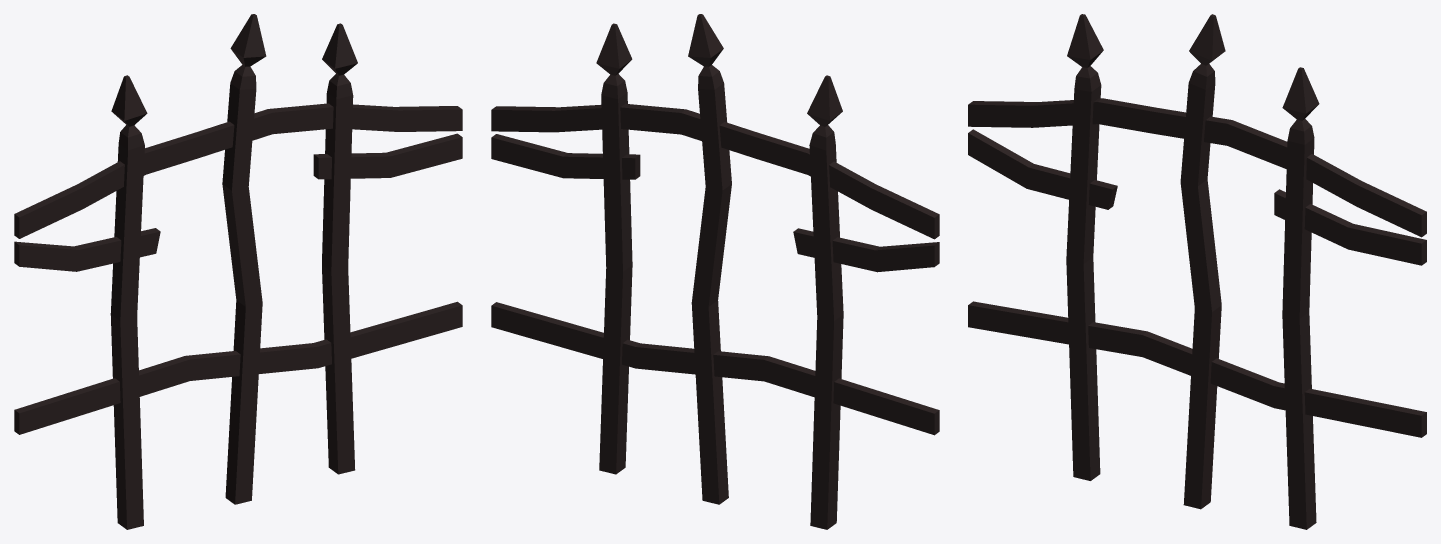
Rendered from fenceBSection3.glb.
3 renders of one model, left to right at view 1: azimuth 30°, elevation 25°; view 2: azimuth 150°, elevation 25°; view 3: azimuth 330°, elevation 25°, orthographic. The views are drawn at different scales.
Parts seen in each view (by area): view 1: fenceBSection3; view 2: fenceBSection3; view 3: fenceBSection3.
Boxes of the visible parts, box(x1,y1,x2,y2) form: fenceBSection3: box(14, 14, 462, 529); fenceBSection3: box(491, 14, 939, 529); fenceBSection3: box(968, 14, 1426, 529).
Size of the model in its own units: 2 by 2.07 by 0.1021.
Materials: 1 (1 with a texture image).
